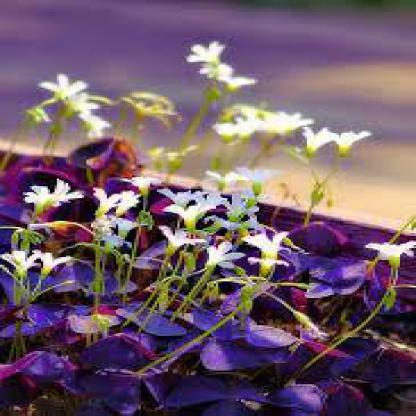Kupu-Kupu: (160, 322, 333, 416), (45, 328, 163, 415), (285, 232, 365, 302)
